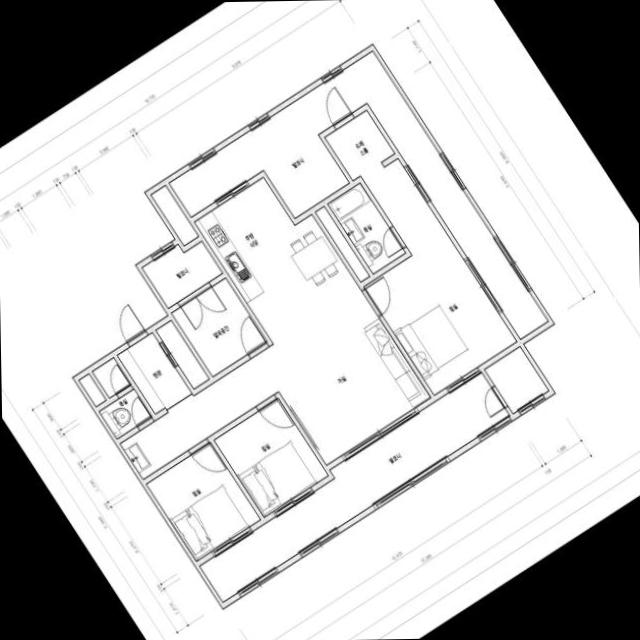background: (0, 0, 640, 640)
space_balconi: (169, 50, 547, 338), (199, 371, 509, 601), (141, 240, 221, 307)
space_bedroom: (360, 158, 516, 394), (146, 442, 260, 560), (214, 397, 327, 516)
space_dressroom: (324, 109, 394, 179)
space_front: (117, 319, 208, 413)
space_kitchen: (194, 176, 359, 343)
space_living_room: (120, 287, 430, 478)
space_other: (171, 277, 266, 375), (484, 346, 548, 412), (315, 205, 368, 280), (150, 185, 198, 244), (78, 373, 105, 405)
space_toilet: (327, 182, 405, 272), (99, 388, 151, 437), (92, 357, 130, 396)
